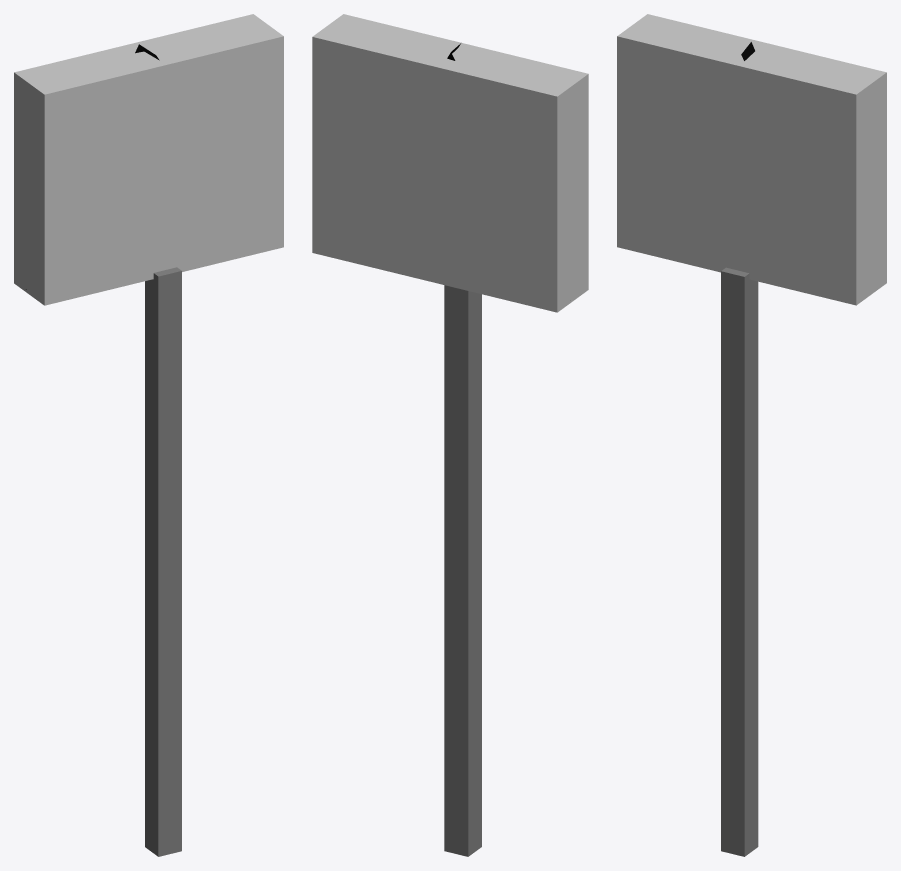
File: triangleSign.obj
The picture shows the model from 3 angles, left to right: view 1: azimuth 30°, elevation 25°; view 2: azimuth 150°, elevation 25°; view 3: azimuth 330°, elevation 25°; orthographic projection. The views are drawn at different scales.
Parts seen in each view (by area): view 1: Cube.002, Cube.001; view 2: Cube.002, Cube.001; view 3: Cube.002, Cube.001.
Boxes of the visible parts, x1=… form: Cube.002: x1=14, y1=14, x2=283, y2=305; Cube.001: x1=145, y1=267, x2=181, y2=856; Cube.002: x1=312, y1=14, x2=588, y2=312; Cube.001: x1=444, y1=285, x2=481, y2=856; Cube.002: x1=617, y1=14, x2=886, y2=305; Cube.001: x1=721, y1=267, x2=758, y2=856.
Bounding box in the file's own units: 2 × 6.33 × 0.5128.
